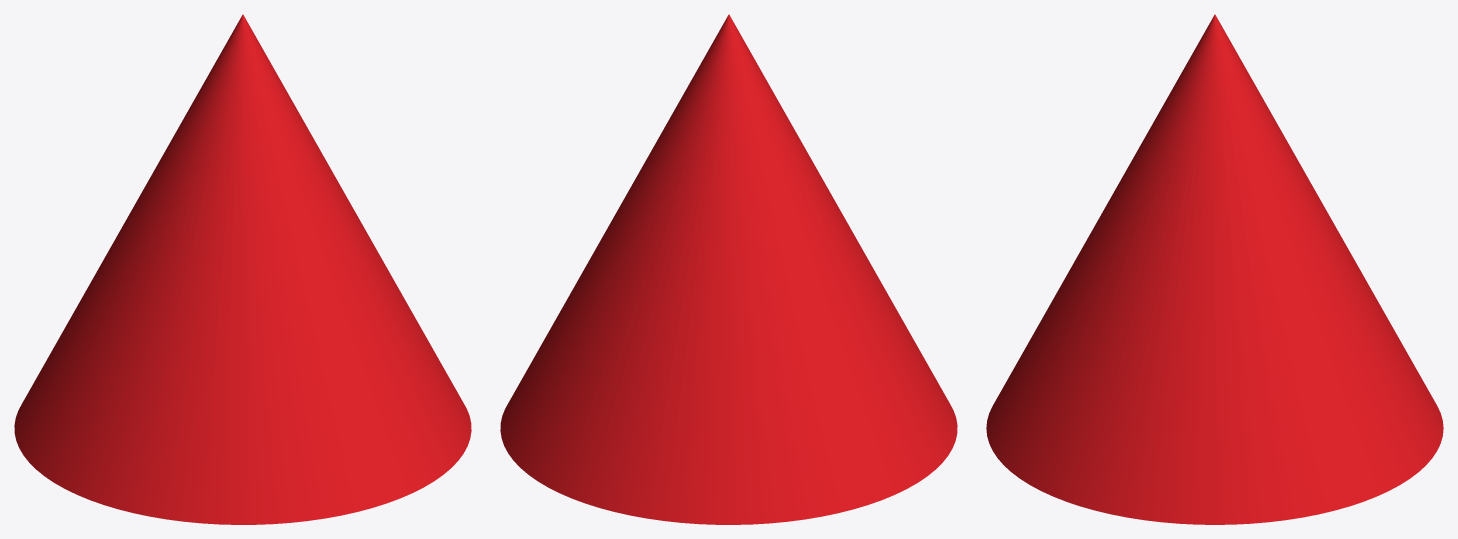
The picture shows the model from 3 angles, left to right: view 1: azimuth 30°, elevation 25°; view 2: azimuth 150°, elevation 25°; view 3: azimuth 270°, elevation 25°; orthographic projection.
Parts seen in each view (by area): view 1: root; view 2: root; view 3: root.
Part boxes in pixels (x1,y1,x2,y2): root: (14,14,471,524); root: (500,14,957,524); root: (986,14,1443,524).
Size of the model in its own units: 0.4881 by 0.4881 by 0.4881.
